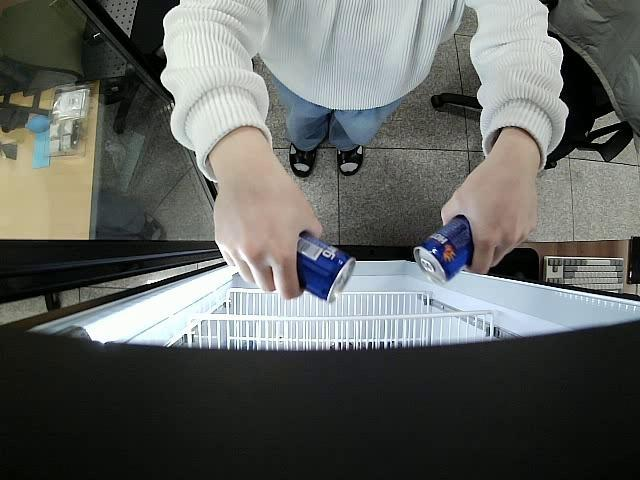16_hot6: (412, 214, 482, 287), (292, 228, 354, 302)
